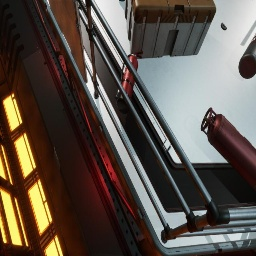FireExtinguisher ]: (115, 51, 143, 114)
NitrogenTank ,: (200, 107, 256, 192), (238, 33, 256, 79)
